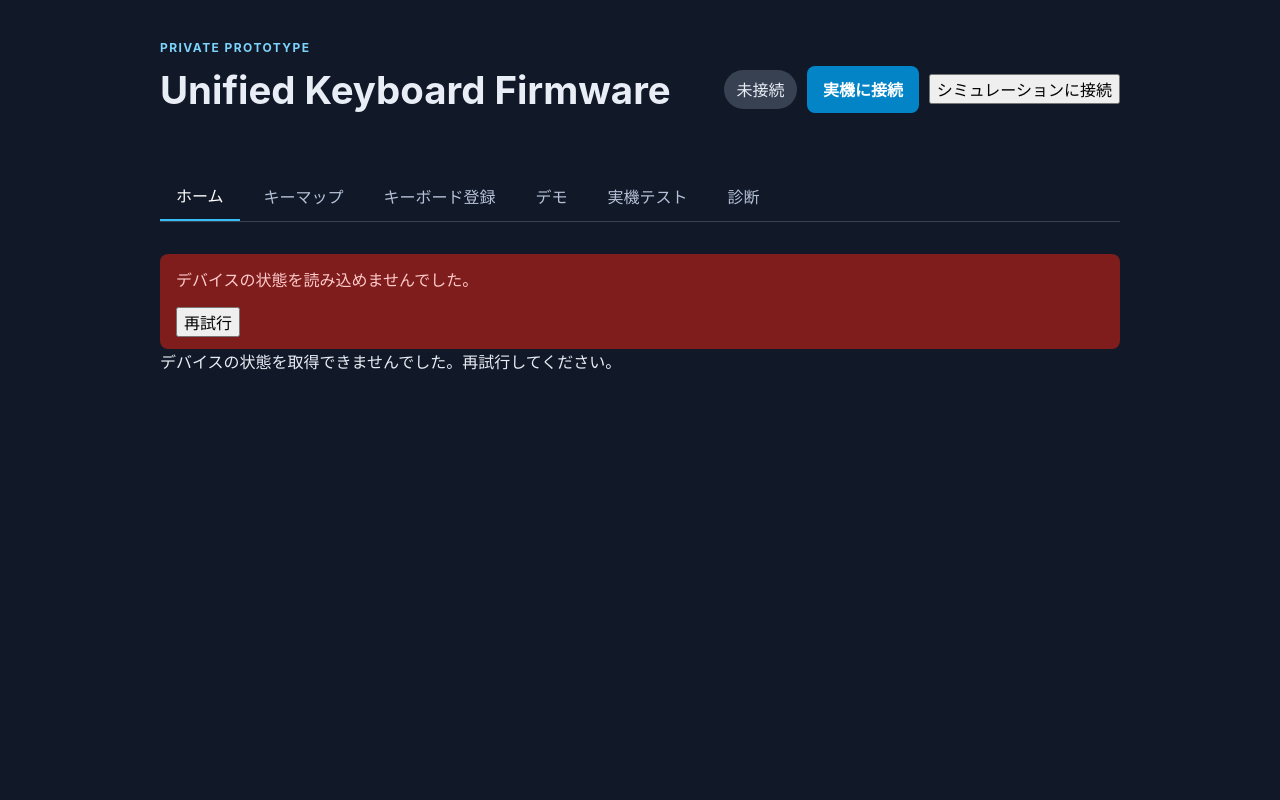
Test: bridge configuration › shows a readable load error and can retry without knowing the transport
Expected: the message shows "デバイスの状態を読み込めませんでした。", [176,270,478,290]
Click the button "再試行": (208, 322) [176,306,240,336]
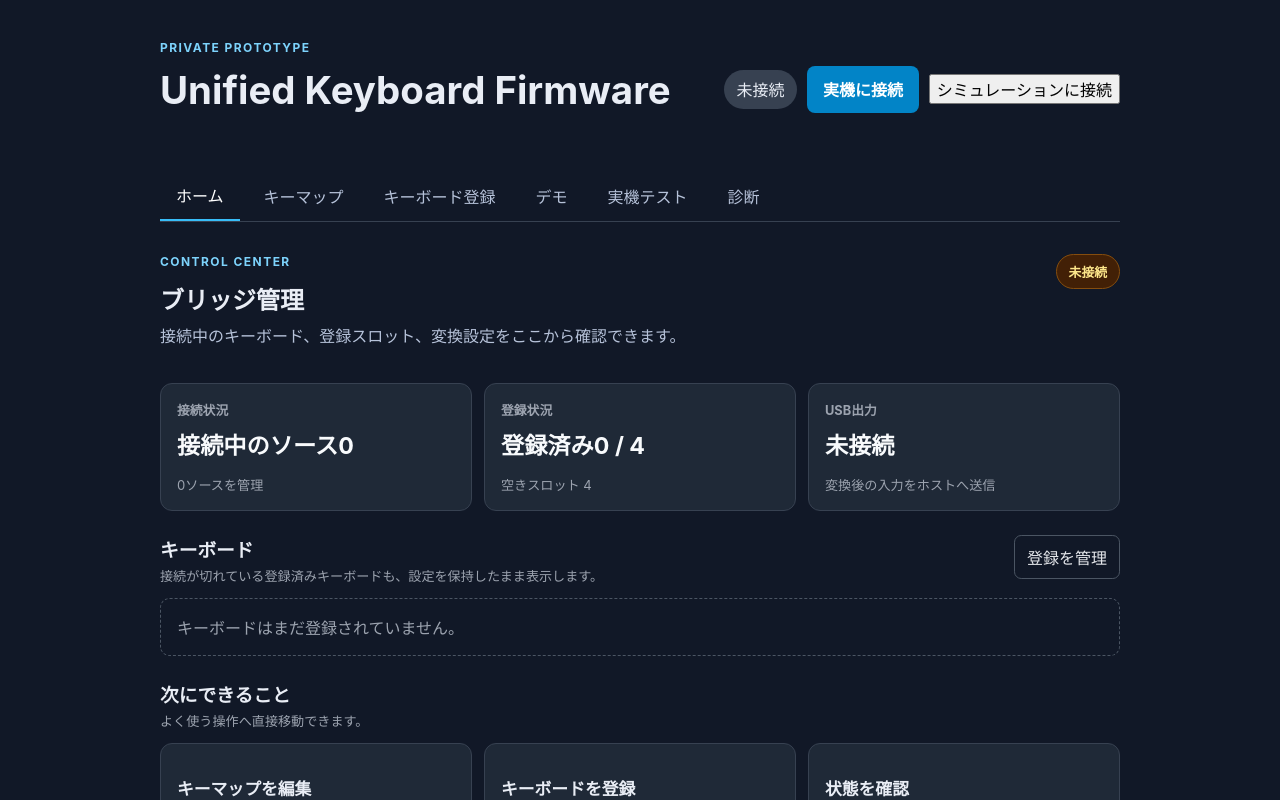
Result: the element "接続状況" shows "接続中のソース0" at [177,432,354,460]
